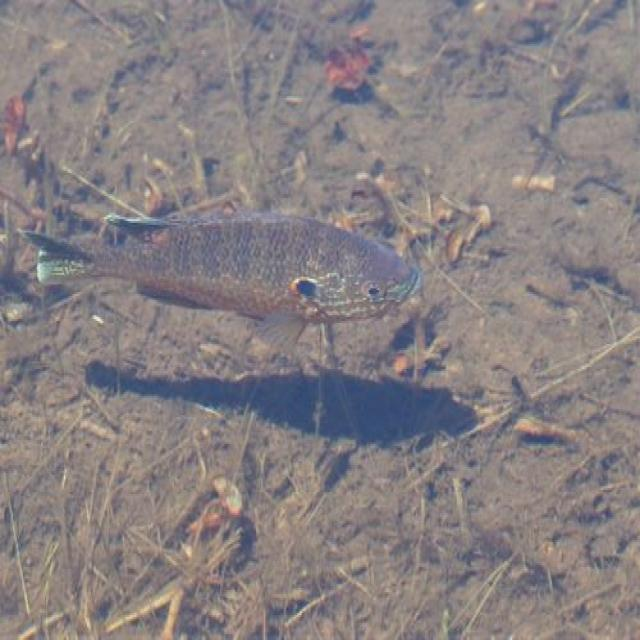Gunes Levregi: (14, 196, 452, 347)
